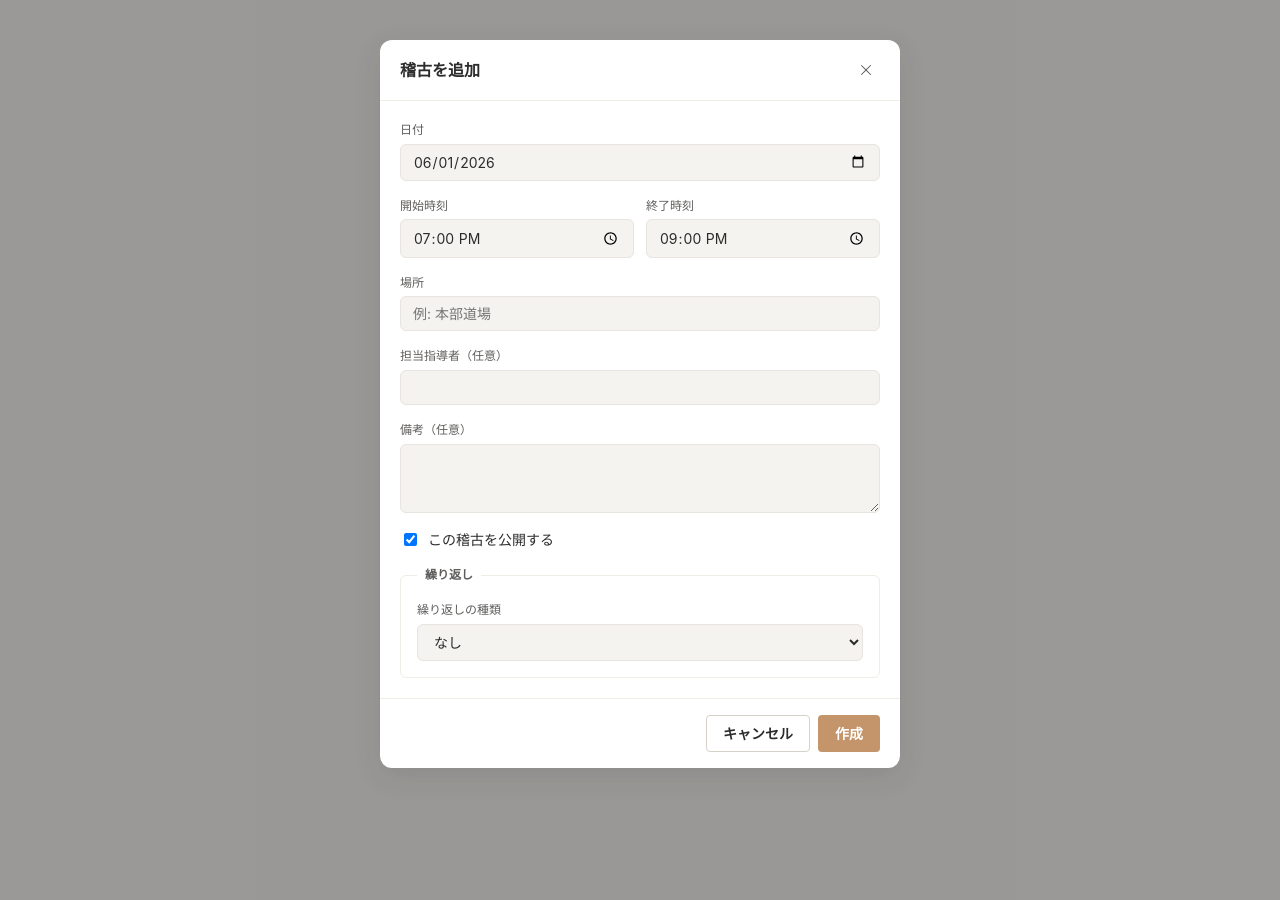
Test: EventForm(作成) › 場所が空なら作成しない(バリデーション)
This screenshot has width=1280, height=900.
Click the button "作成" at (849, 733), box x1=818 y1=714 x2=880 y2=752
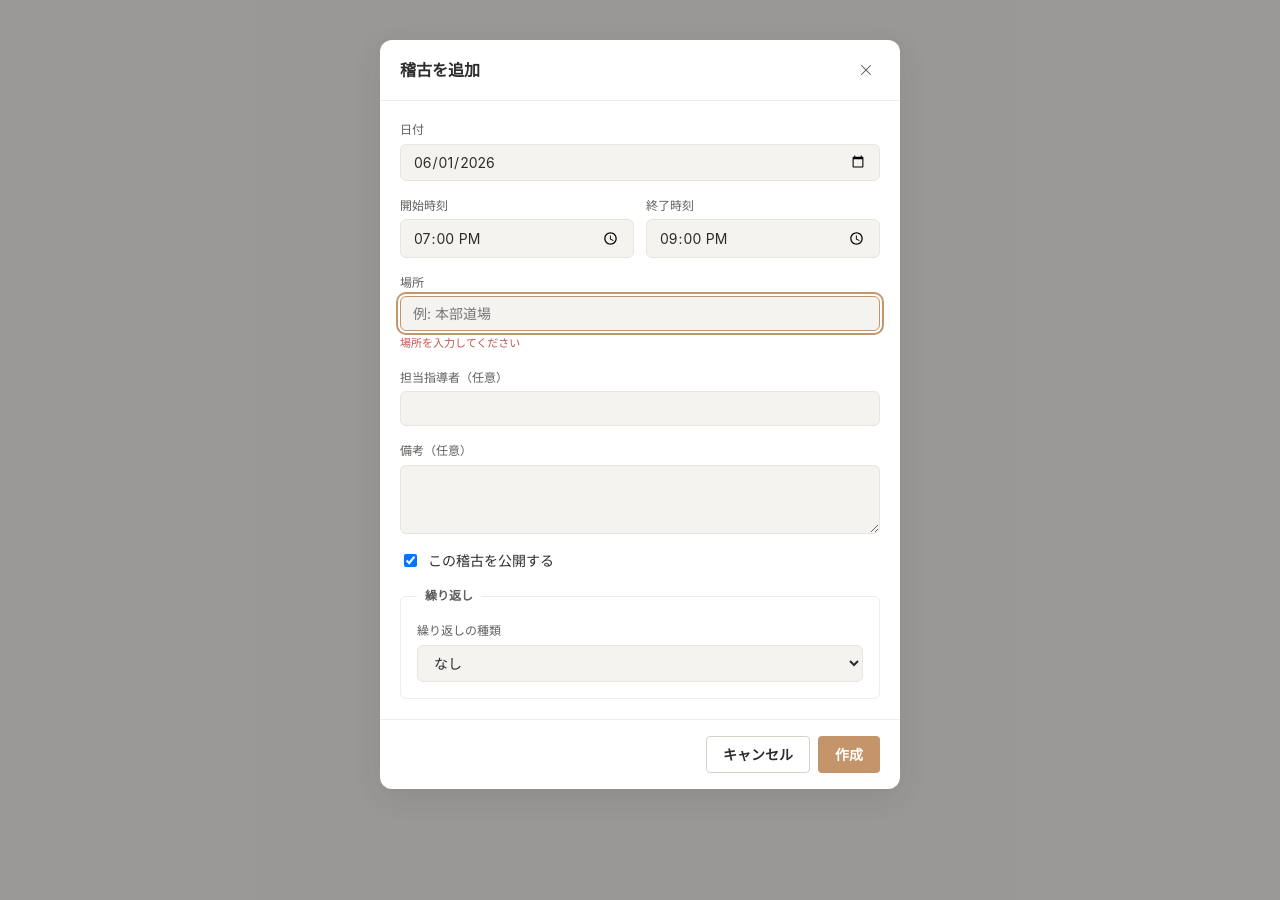
Now the text "場所を入力してください" is shown, box x1=400 y1=336 x2=520 y2=350
